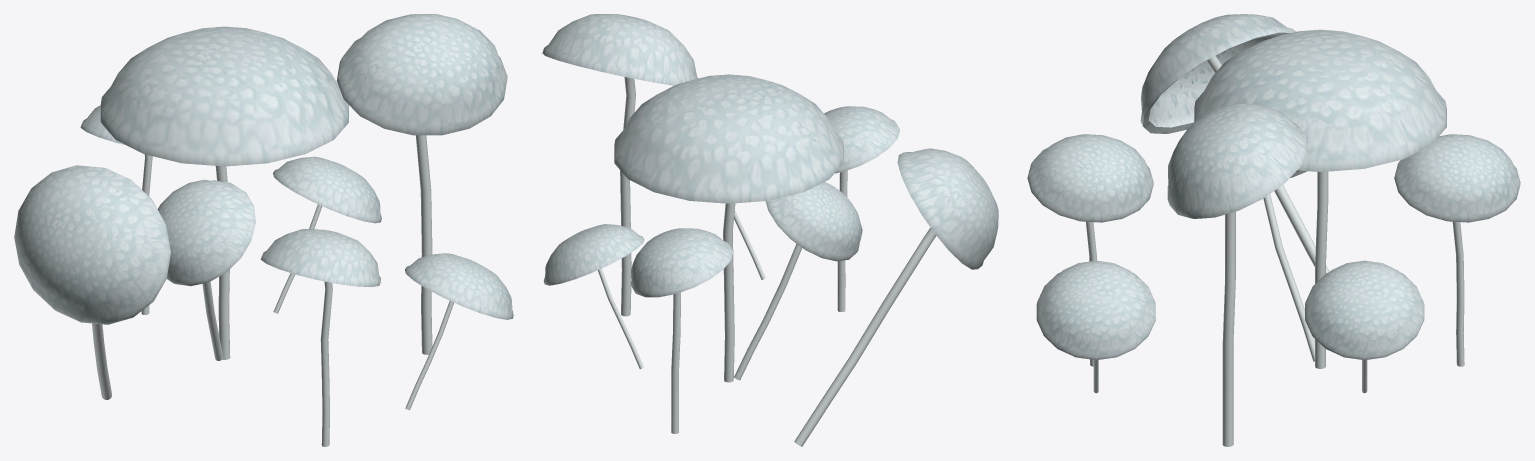
The model's file is seta palenzuela.FBX.
3 views of the same model, side by side, from view 1: azimuth 30°, elevation 25°; view 2: azimuth 150°, elevation 25°; view 3: azimuth 270°, elevation 25° (orthographic). The views are drawn at different scales.
Parts seen in each view (by area): view 1: seta 5, seta 8, seta 1, seta 7, seta 4, seta 3, seta 2, seta 6; view 2: seta 5, seta 8, seta 1, seta 6, seta 7, seta 2, seta 4; view 3: seta 5, seta 1, seta 6, seta 3, seta 2, seta 8, seta 4, seta 7.
Boxes of the visible parts, left/top/right/bottom form: seta 5: left=100, top=26, right=348, bottom=359; seta 8: left=14, top=165, right=170, bottom=399; seta 1: left=336, top=14, right=507, bottom=354; seta 7: left=157, top=179, right=255, bottom=360; seta 4: left=260, top=229, right=380, bottom=446; seta 3: left=405, top=253, right=513, bottom=410; seta 2: left=273, top=156, right=381, bottom=313; seta 6: left=80, top=105, right=152, bottom=314; seta 5: left=614, top=74, right=843, bottom=382; seta 8: left=794, top=148, right=998, bottom=446; seta 1: left=542, top=14, right=697, bottom=316; seta 6: left=630, top=228, right=733, bottom=433; seta 7: left=734, top=182, right=862, bottom=380; seta 2: left=543, top=224, right=644, bottom=368; seta 4: left=824, top=106, right=899, bottom=311; seta 5: left=1194, top=29, right=1446, bottom=368; seta 1: left=1167, top=103, right=1307, bottom=446; seta 6: left=1394, top=134, right=1520, bottom=366; seta 3: left=1036, top=260, right=1155, bottom=393; seta 2: left=1305, top=260, right=1424, bottom=393; seta 8: left=1140, top=14, right=1329, bottom=273; seta 4: left=1027, top=134, right=1153, bottom=366; seta 7: left=1263, top=170, right=1314, bottom=361.
Bounding box in the file's own units: 0.5226 × 0.3777 × 0.4638.
